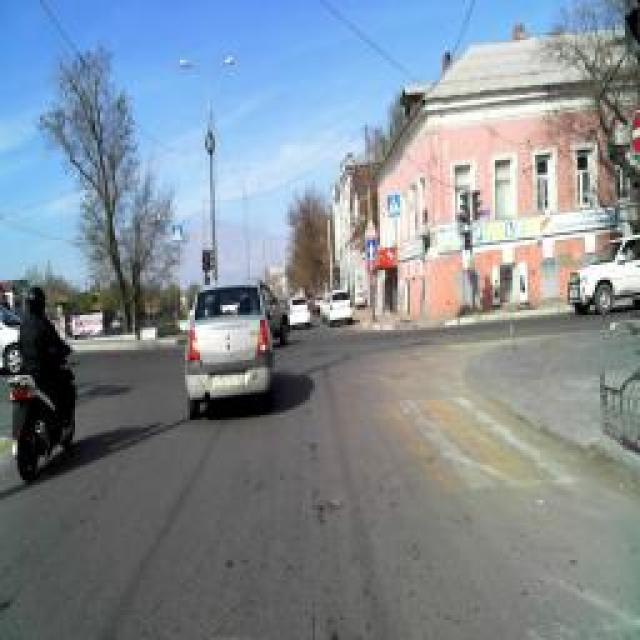sign: (630, 108, 638, 160)
